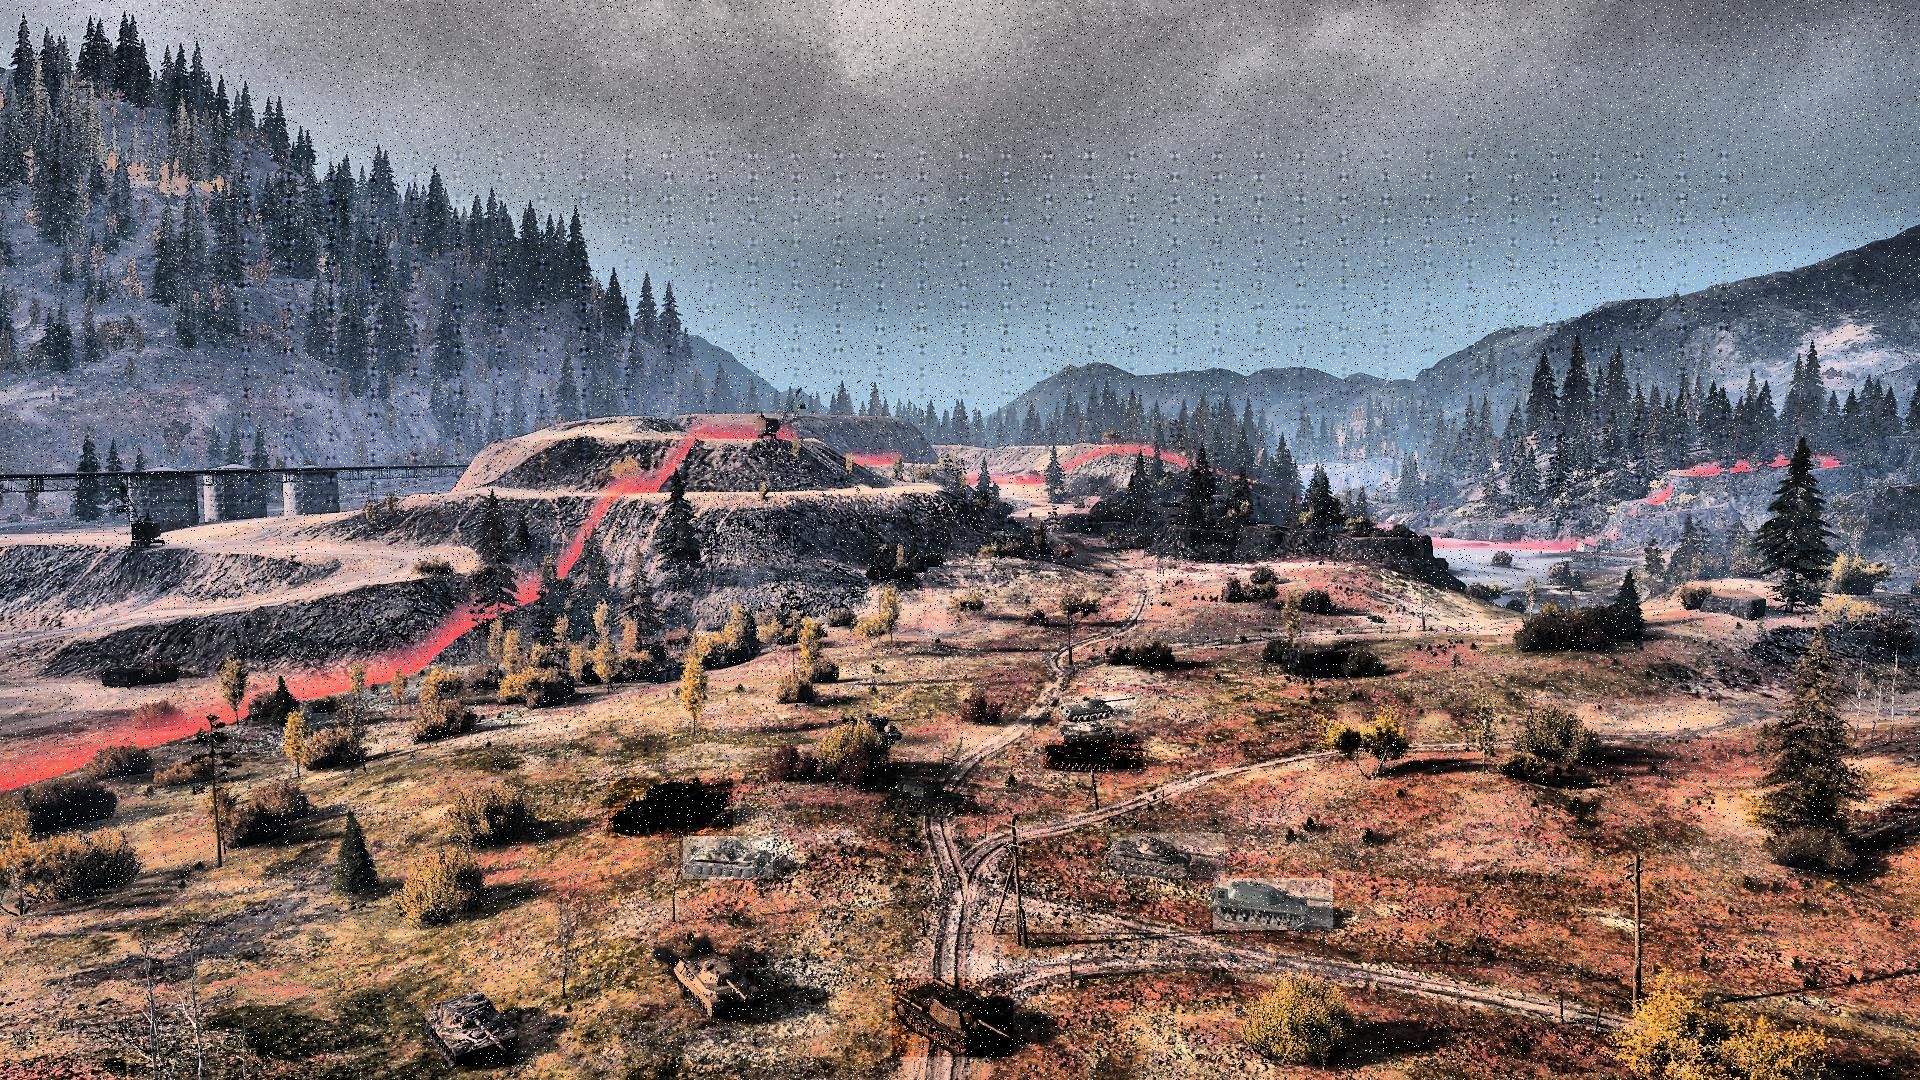military-vehicle: (891, 978, 1013, 1056), (608, 778, 733, 839), (422, 992, 518, 1065), (675, 945, 765, 1023), (1213, 878, 1333, 930), (1110, 833, 1225, 878), (683, 837, 773, 880), (887, 779, 977, 816), (1043, 741, 1143, 770), (1059, 696, 1137, 720), (1060, 721, 1126, 740)
